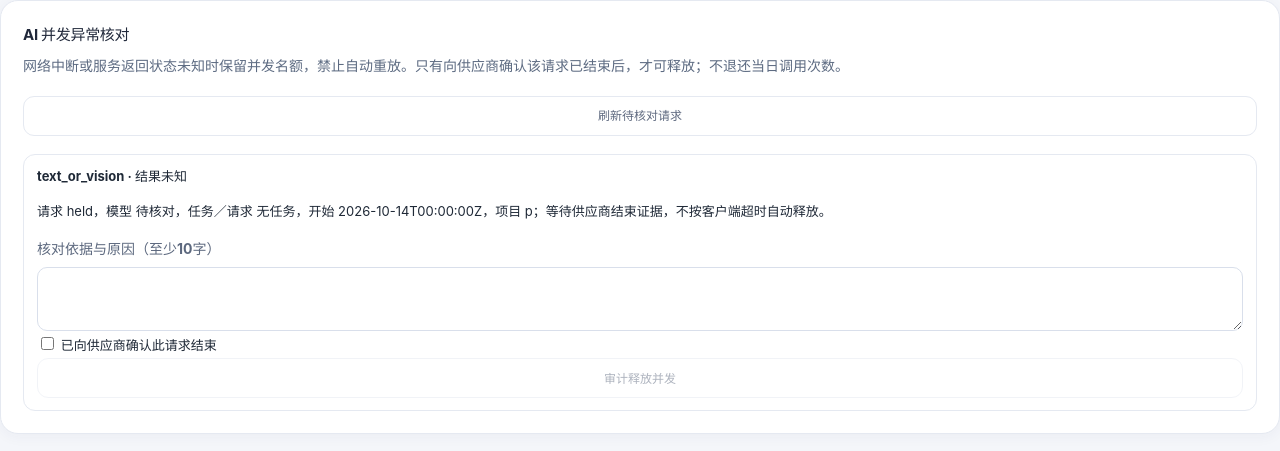
Test: hides cached privileged rows after an authority denial
Expected: the button "审计释放并发" is shown, [37,358,1243,398]
Click the button "刷新待核对请求": point(640, 116) [23,96,1257,136]
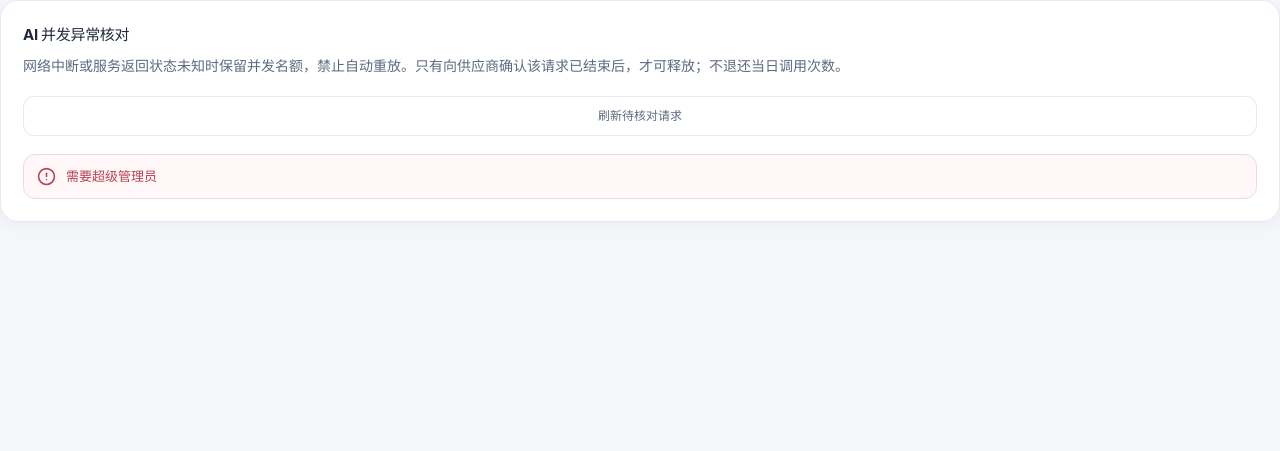
Result: the text "需要超级管理员" is shown at [66,168,157,184]
Result: the button "审计释放并发" is gone
Result: the text labelled "核对依据与原因" is gone
